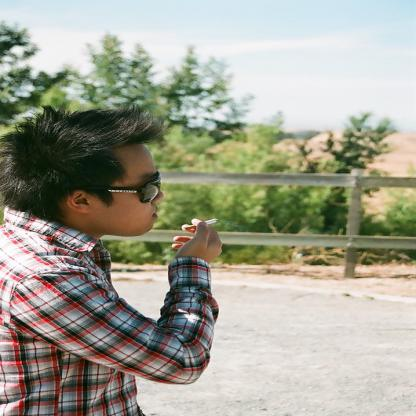smoking: (184, 218, 218, 231)
